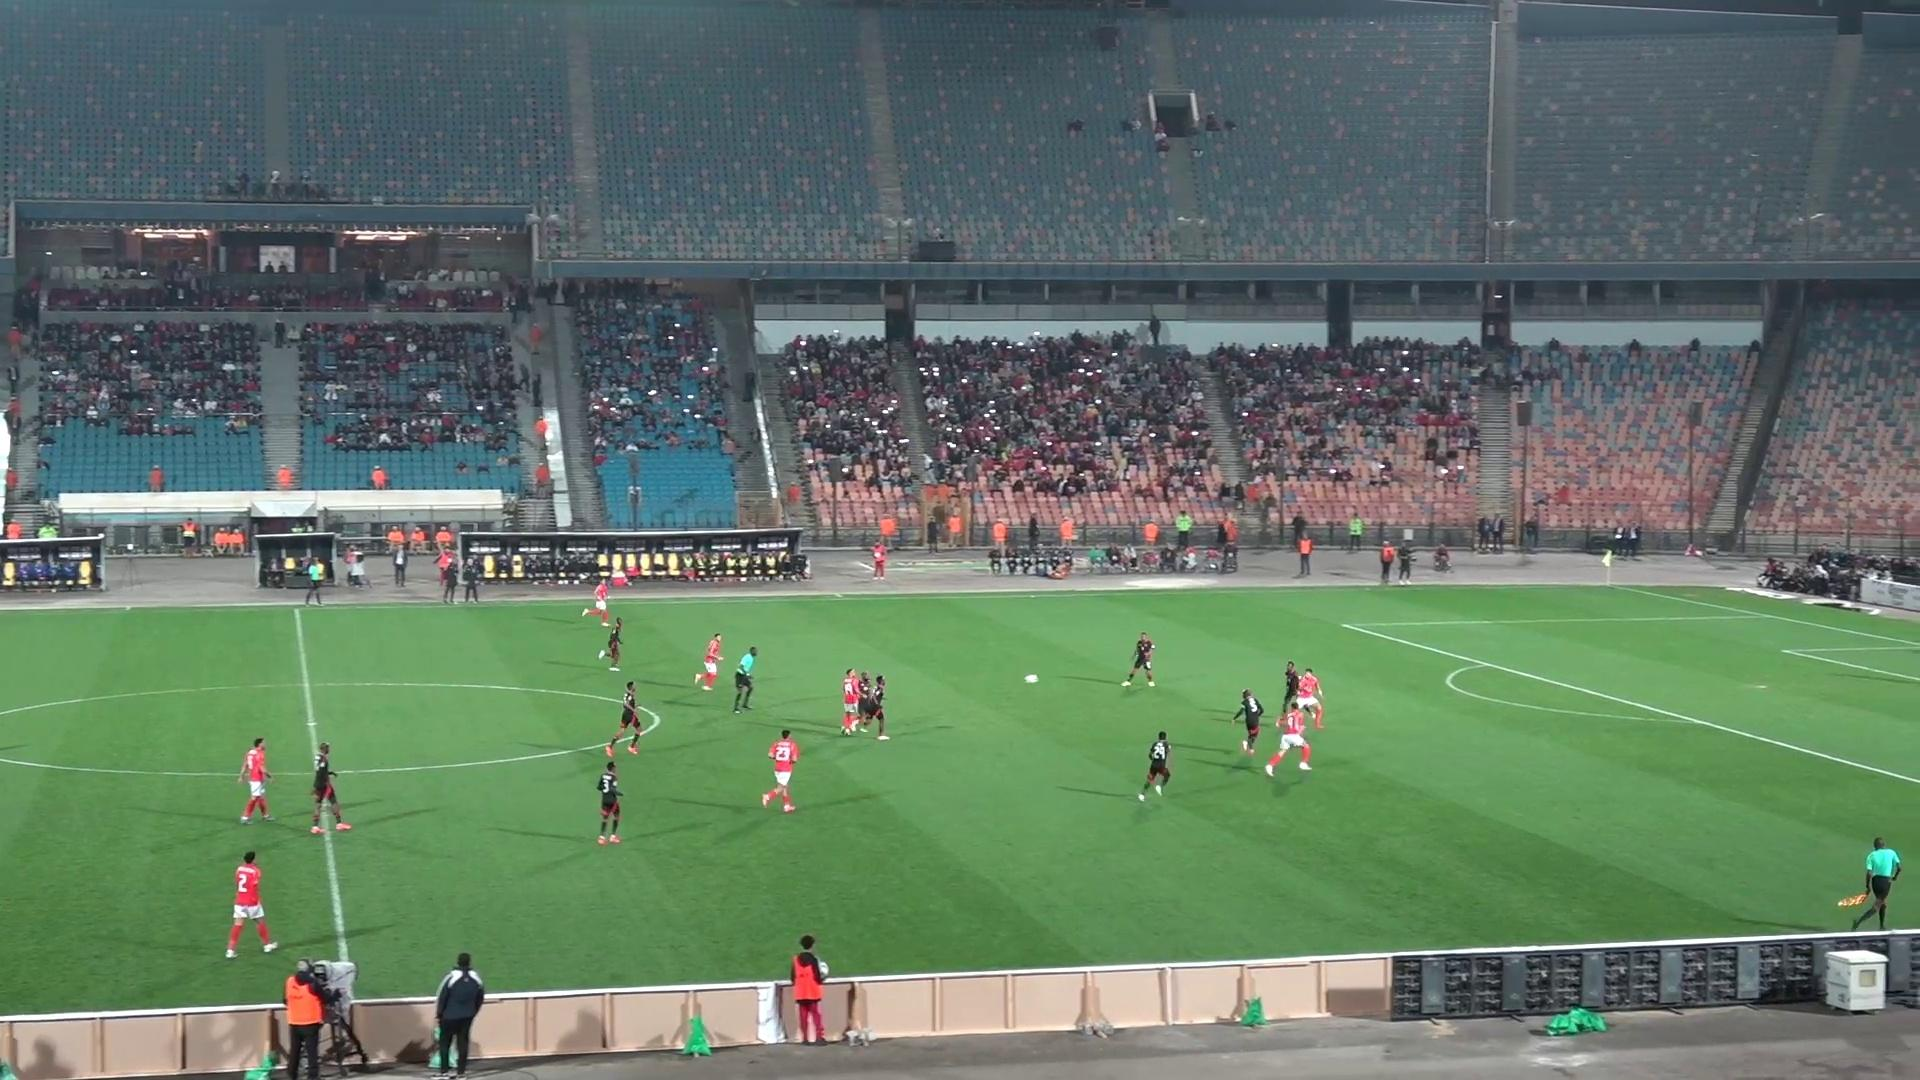Ball: (1022, 673, 1043, 686)
Refree: (1838, 837, 1902, 928), (286, 553, 334, 605), (731, 646, 758, 711)
Team1: (225, 851, 278, 957), (1265, 698, 1311, 775), (761, 731, 800, 814), (1278, 663, 1323, 728), (240, 738, 272, 823), (582, 578, 615, 626), (694, 633, 723, 688), (840, 669, 860, 735)
Team2: (605, 680, 657, 758), (311, 742, 351, 833), (1135, 731, 1172, 800), (596, 758, 622, 844), (1232, 688, 1265, 756), (1121, 632, 1155, 687), (858, 675, 887, 740), (596, 617, 622, 670)
